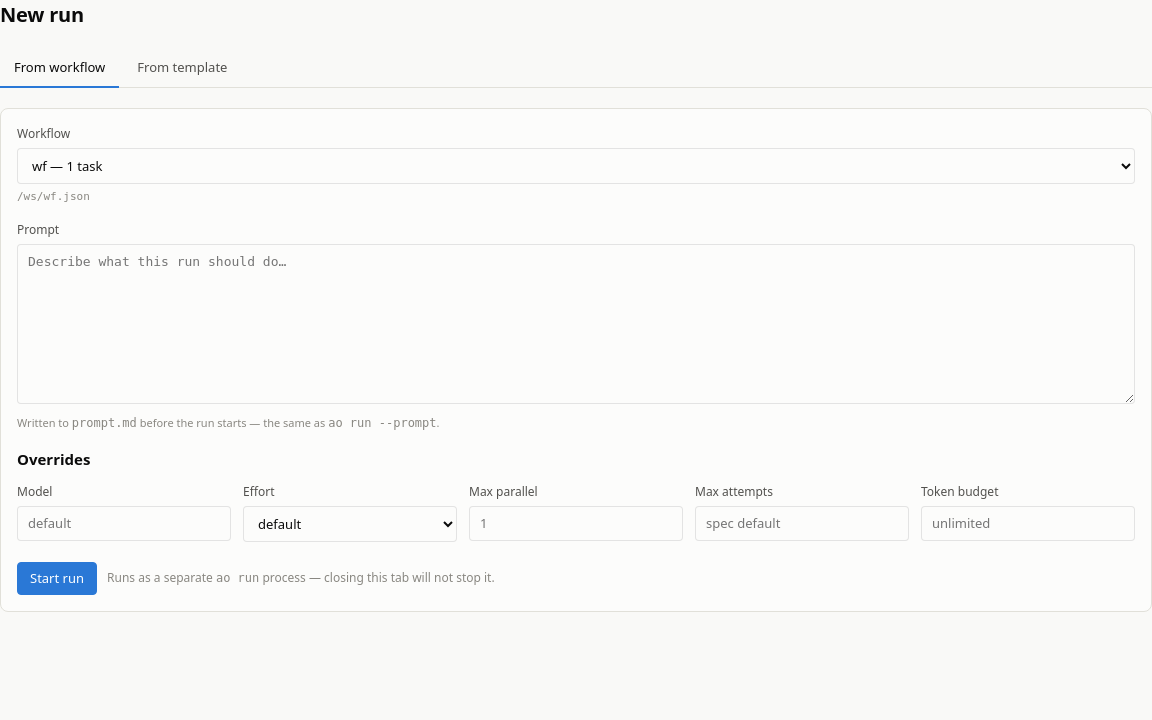
Scenario: NewRun launch flow (classic) › failure: shows the alert, never navigates, Edit & retry keeps the form values
Type "keep me" into the text box labelled "Prompt" at point(576, 324), box [17,244,1135,404]
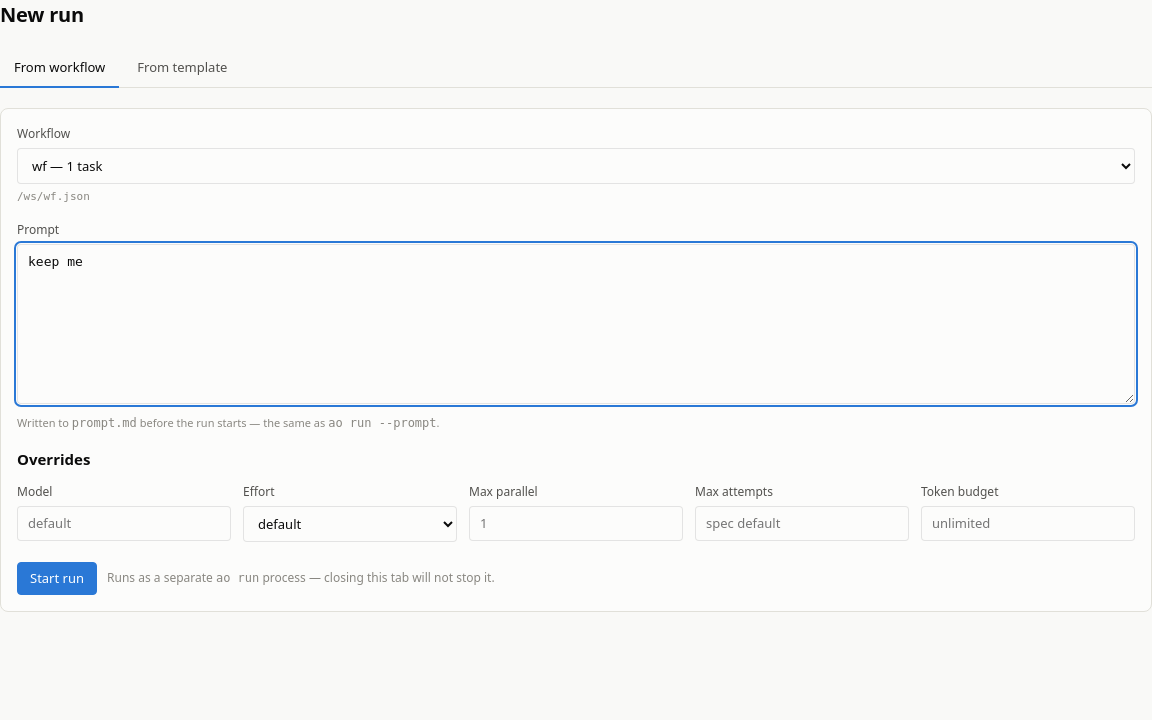
Click the button "Start run" at point(57, 578), box [17,562,97,595]
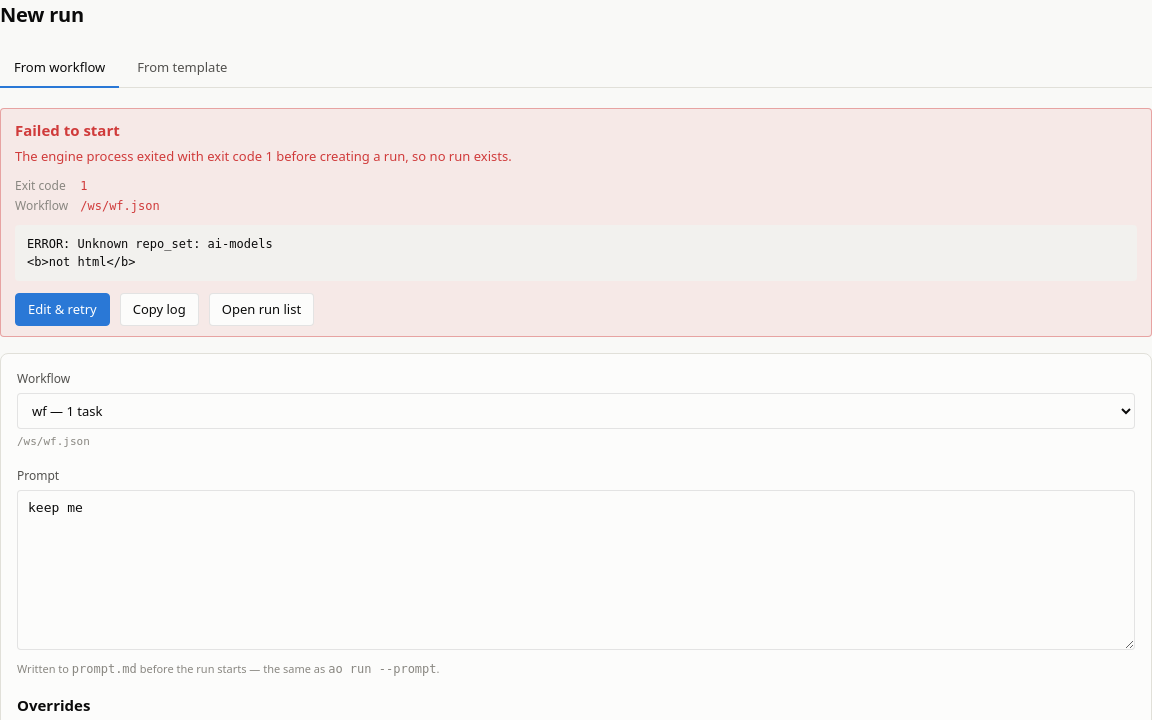
Now the message shows "Failed to start", box [15,120,120,140]
Now the message shows "Unknown repo_set: ai-models", box [27,236,273,268]
Click the button "Edit & retry" at point(62, 309), box [15,292,110,326]
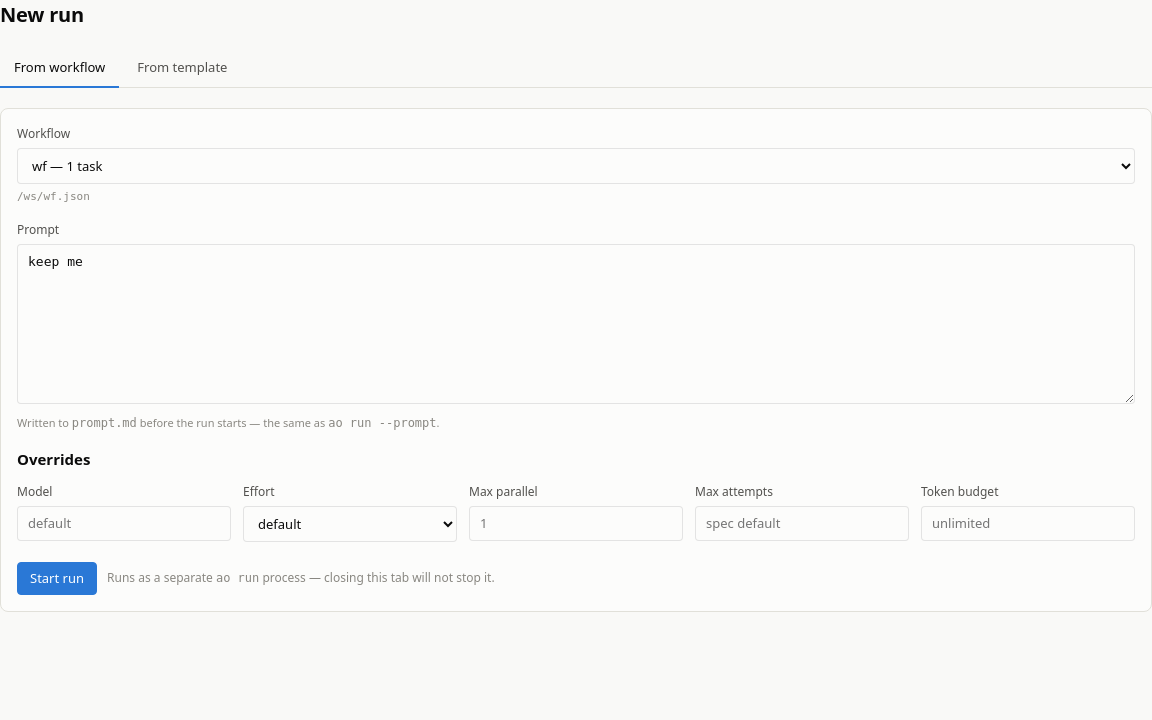
Now the heading "Failed to start" is gone
